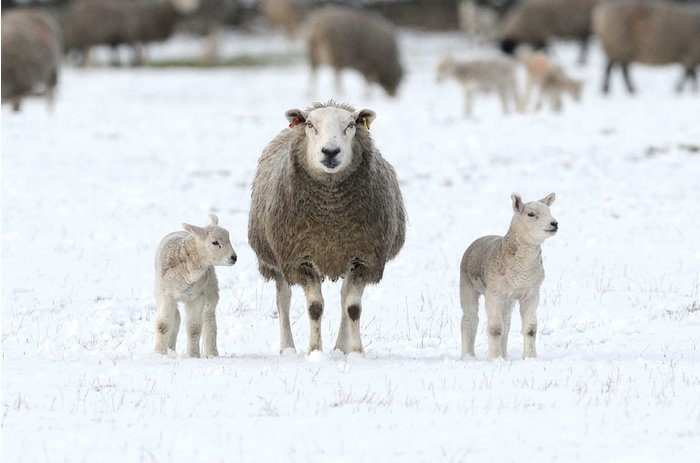sheep: (241, 96, 410, 356), (440, 186, 571, 385), (146, 210, 244, 366), (280, 7, 419, 99), (415, 50, 543, 138), (66, 1, 218, 75), (586, 1, 700, 92), (1, 4, 68, 117), (500, 32, 594, 101)
